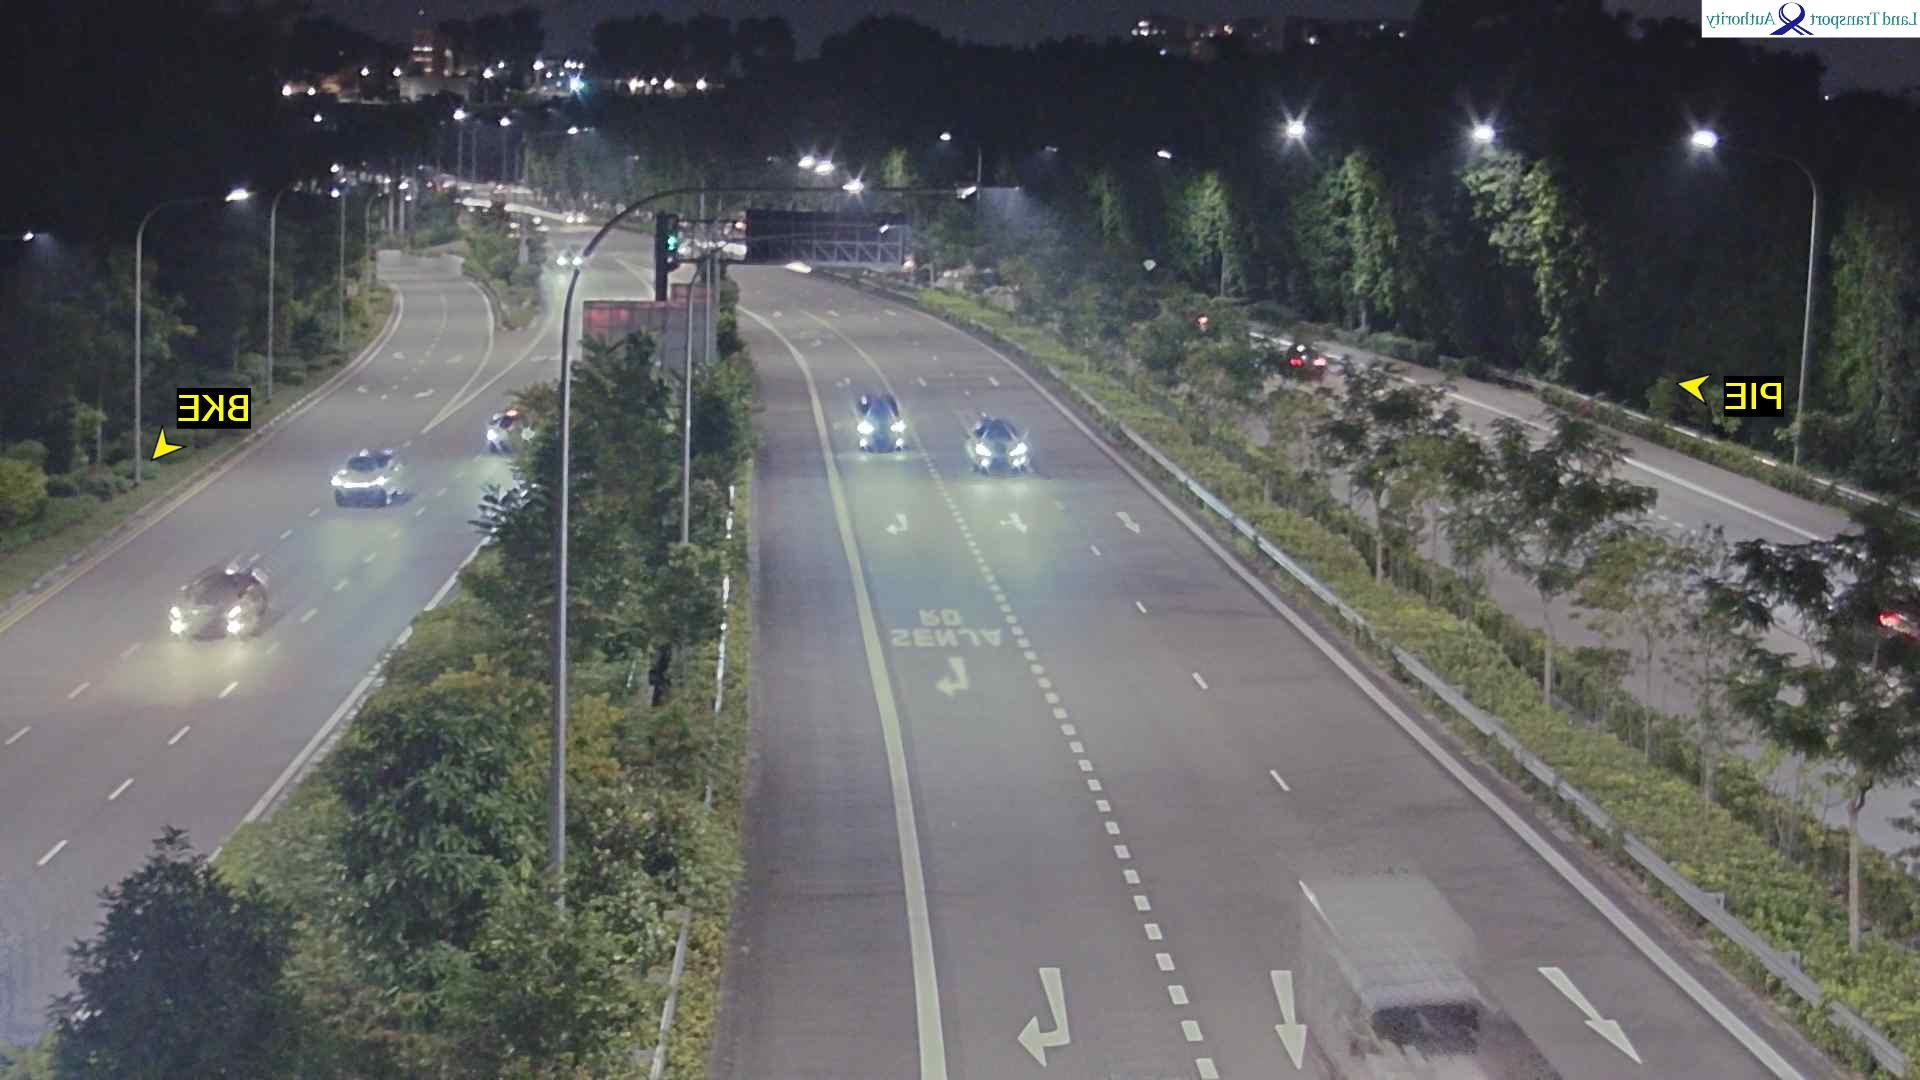cars: (169, 549, 273, 640), (1826, 572, 1920, 644), (331, 446, 406, 506), (967, 414, 1033, 475), (857, 392, 909, 452), (487, 407, 529, 454), (1284, 343, 1328, 377), (556, 247, 585, 270)
trucks: (1295, 866, 1490, 1077)
